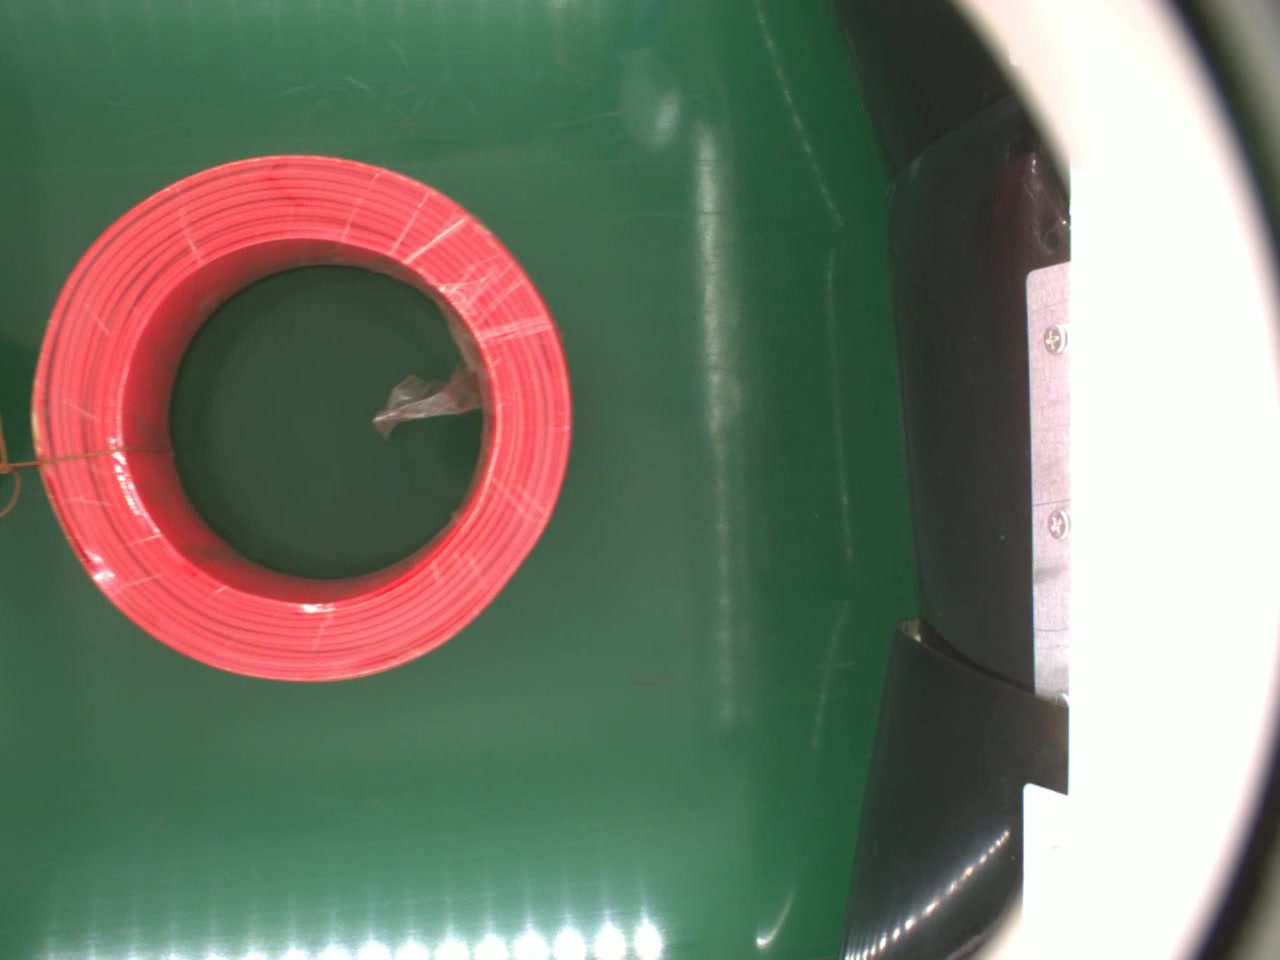red: (31, 150, 575, 685)
